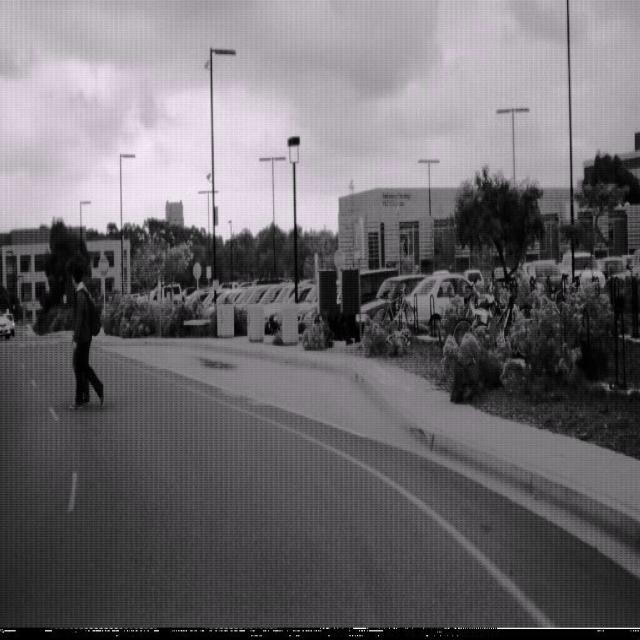stop: (333, 248, 345, 271), (98, 254, 110, 277)
